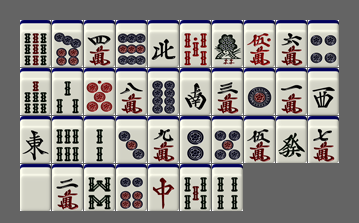0m: (244, 20, 275, 67)
0p: (84, 68, 115, 115)
0s: (180, 20, 211, 67)
1m: (276, 68, 307, 115)
1p: (244, 68, 275, 115)
1s: (212, 20, 243, 67)
1z: (20, 116, 51, 163)
2m: (52, 164, 83, 211)
2p: (180, 116, 211, 163)
2s: (84, 116, 115, 163)
2z: (180, 68, 211, 115)
3m: (212, 68, 243, 115)
3p: (116, 116, 147, 163)
3s: (52, 68, 83, 115)
3z: (308, 68, 339, 115)
4m: (84, 20, 115, 67)
4p: (308, 20, 339, 67)
4s: (212, 164, 243, 211)
4z: (148, 20, 179, 67)
5m: (244, 116, 275, 163)
5p: (212, 116, 243, 163)
5s: (180, 164, 211, 211)
5z: (20, 164, 51, 211)
6m: (276, 20, 307, 67)
6p: (116, 164, 147, 211)
6s: (52, 116, 83, 163)
6z: (276, 116, 307, 163)
7m: (308, 116, 339, 163)
7p: (52, 20, 83, 67)
7s: (20, 68, 51, 115)
7z: (148, 164, 179, 211)
8m: (116, 68, 147, 115)
8p: (148, 68, 179, 115)
8s: (84, 164, 115, 211)
9m: (148, 116, 179, 163)
9p: (116, 20, 147, 67)
9s: (20, 20, 51, 67)
